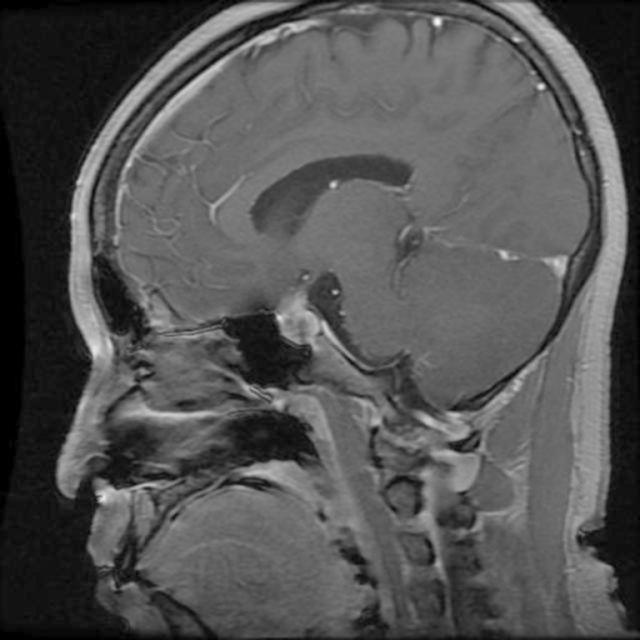no tumor: (272, 292, 338, 352)
